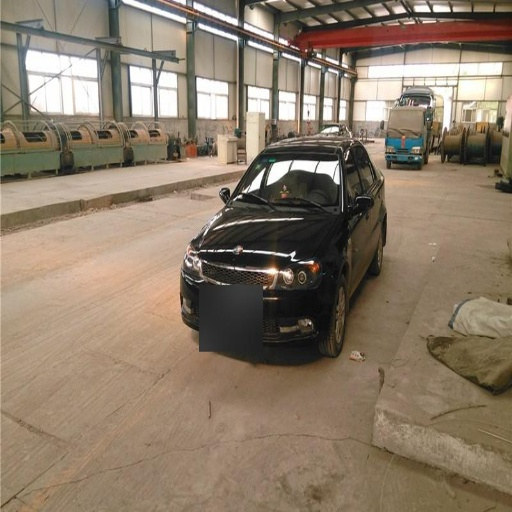front_bumper: (181, 250, 333, 352)
